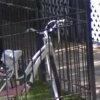Bicycle: (0, 20, 65, 100)
